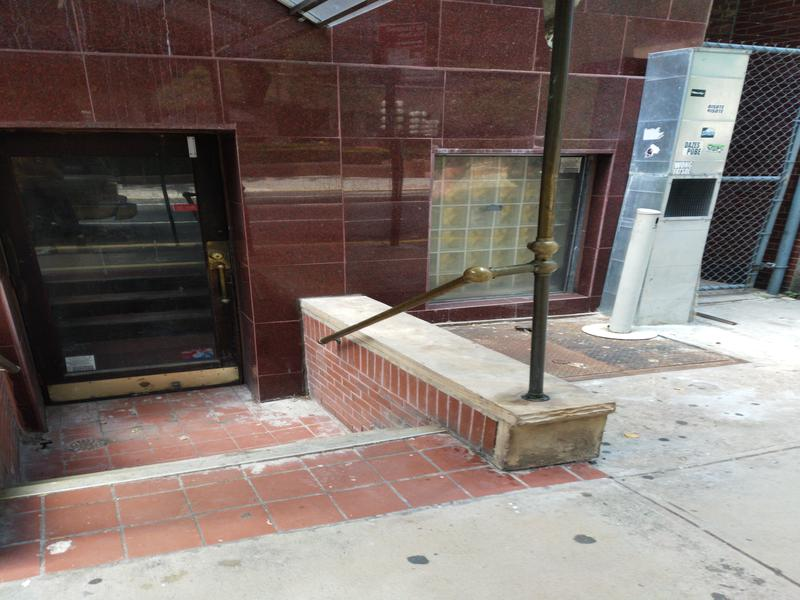door: (9, 124, 268, 401)
